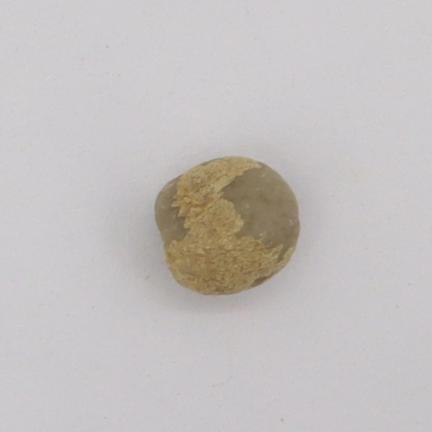immature: (156, 156, 300, 294)
